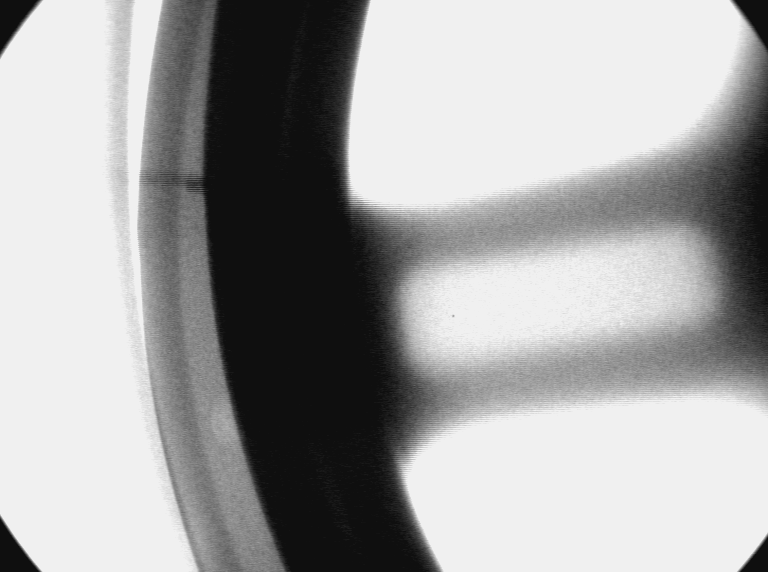defect: (208, 393, 244, 447)
